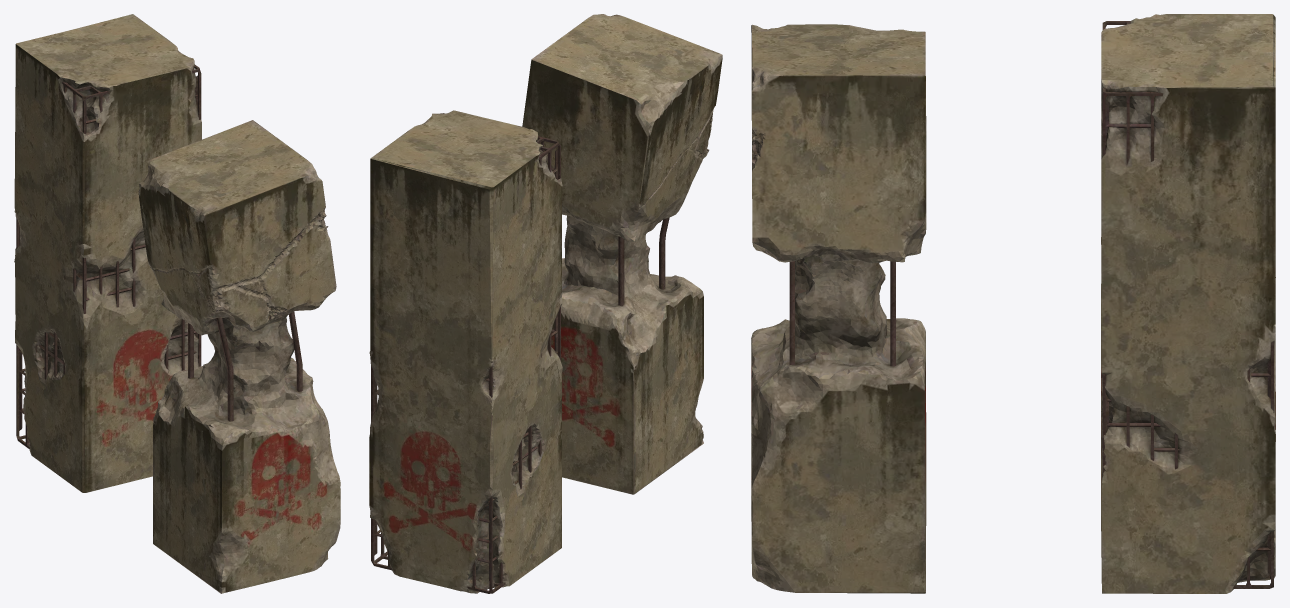
The model's file is realistic_broken_pillars-transformed.glb.
3 views of the same model, side by side, from view 1: azimuth 30°, elevation 25°; view 2: azimuth 150°, elevation 25°; view 3: azimuth 270°, elevation 25° (orthographic). The views are drawn at different scales.
Visible parts, largest first — view 1: Object_4; view 2: Object_4; view 3: Object_4.
Part boxes in pixels (x1,y1,x2,y2): Object_4: (14, 14, 340, 593); Object_4: (369, 14, 722, 593); Object_4: (751, 14, 1275, 593).
Bounding box in the file's own units: 2.3 × 6.4 × 6.
Materials: 1 (1 with a texture image).
